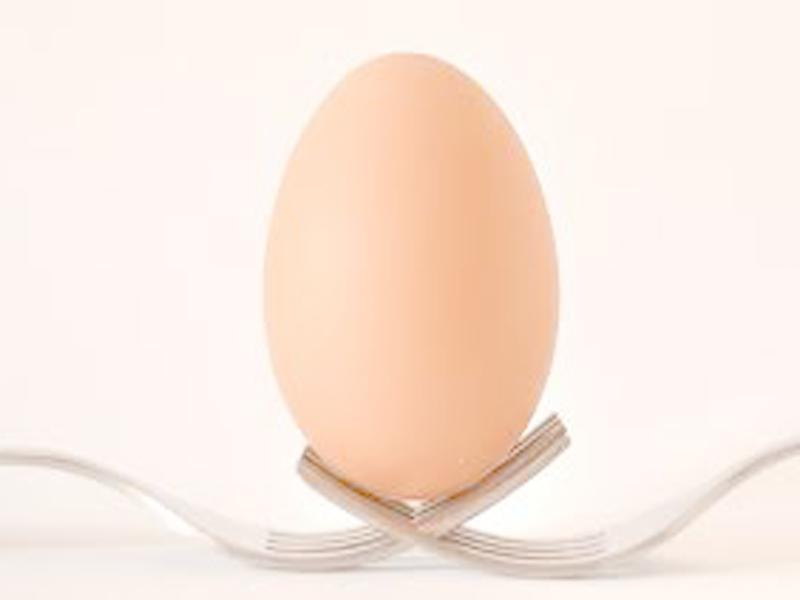Eggs: (263, 54, 558, 499)
